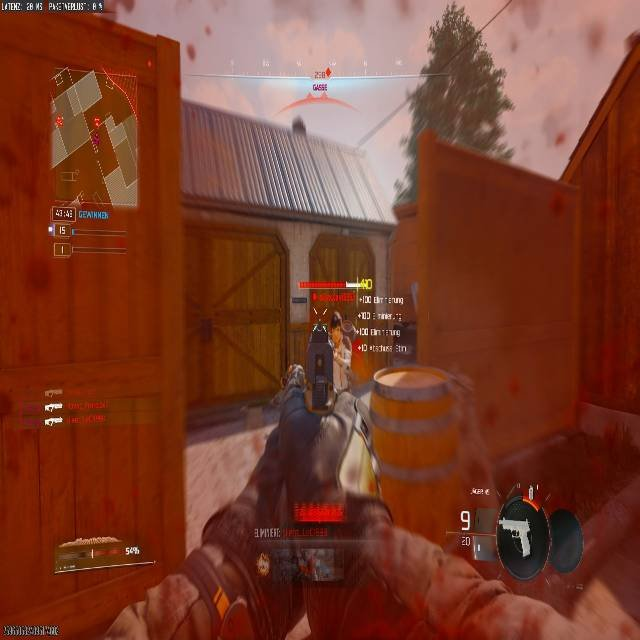head: (329, 310, 342, 327)
player: (321, 307, 353, 376)
